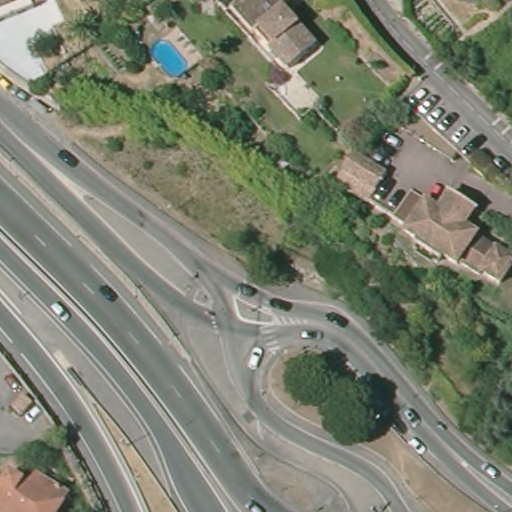pool: (144, 34, 192, 81)
